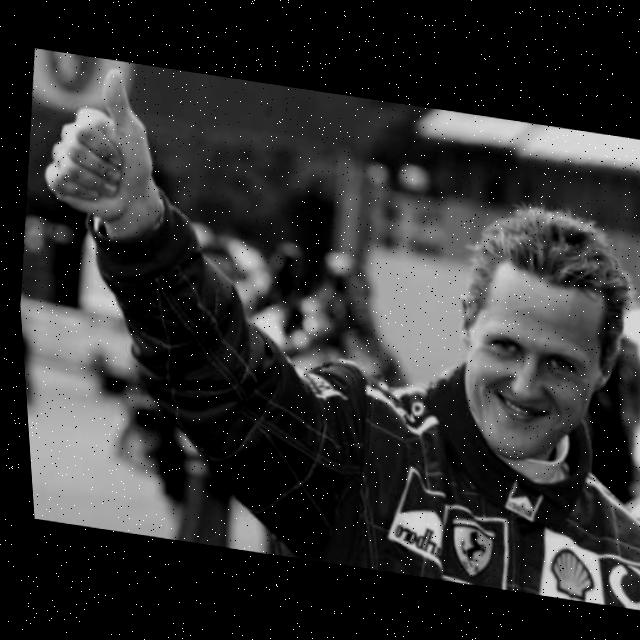face: (432, 195, 638, 486)
